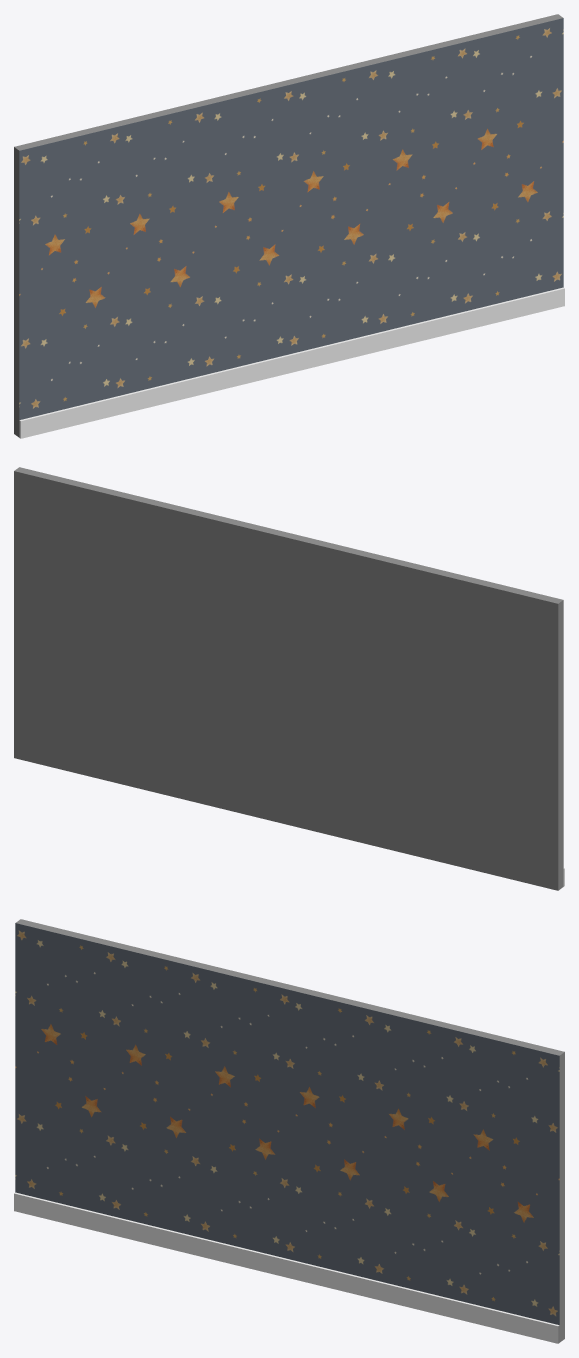
File: Wall 3.fbx
The picture shows the model from 3 angles, top to bottom: view 1: azimuth 30°, elevation 25°; view 2: azimuth 150°, elevation 25°; view 3: azimuth 330°, elevation 25°; orthographic projection.
Parts seen in each view (by area): view 1: Wall 3; view 2: Wall 3; view 3: Wall 3.
Part boxes in pixels (box(x1,y1,x2,y2)): Wall 3: box(14, 14, 564, 438); Wall 3: box(14, 467, 564, 890); Wall 3: box(14, 919, 564, 1343).
Size of the model in its own units: 517 by 261 by 11.22.
3 materials, 1 textured.
